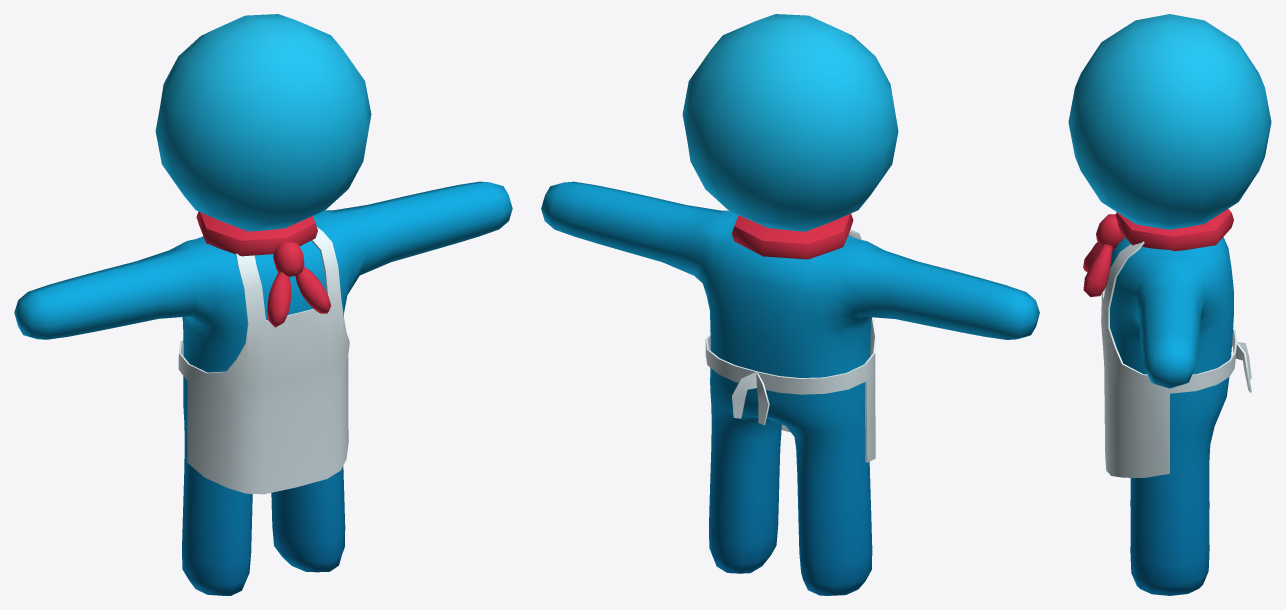
Rendered from Chef_Stickman.fbx.
3 views of the same model, side by side, from view 1: azimuth 30°, elevation 25°; view 2: azimuth 150°, elevation 25°; view 3: azimuth 270°, elevation 25° (orthographic). The views are drawn at different scales.
Parts seen in each view (by area): view 1: Stickman_Chef; view 2: Stickman_Chef; view 3: Stickman_Chef.
Boxes of the visible parts, x1,y1,x2,y2 form: Stickman_Chef: [14, 14, 512, 595]; Stickman_Chef: [541, 14, 1039, 595]; Stickman_Chef: [1068, 14, 1271, 595].
Bounding box in the file's own units: 336 × 995 × 919.
